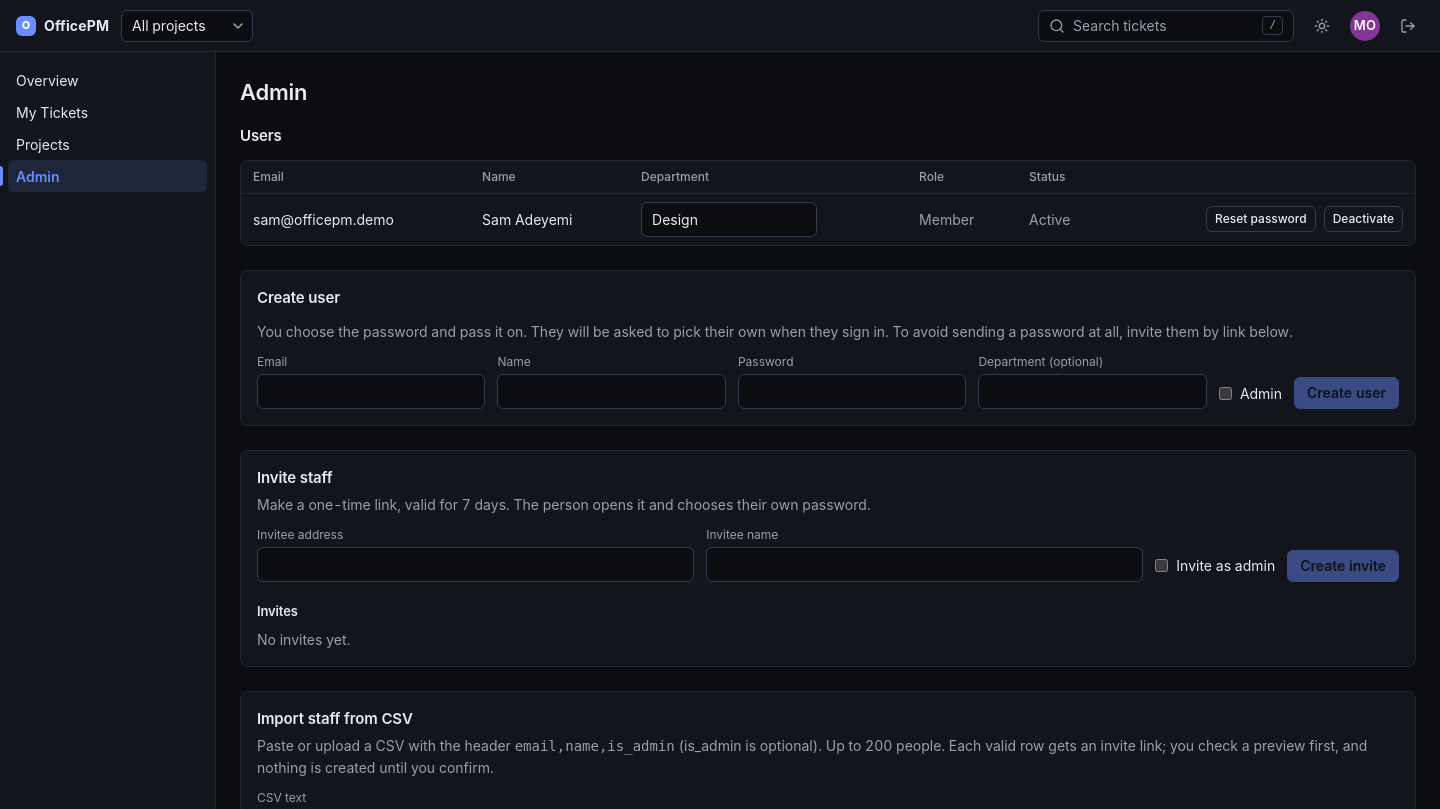
it: admin page › shows the server message and puts the old department back when a change is refused
Step 1. Type " and more" into the field named "Department for Sam Adeyemi" → (729, 219), box [641,202,817,236]
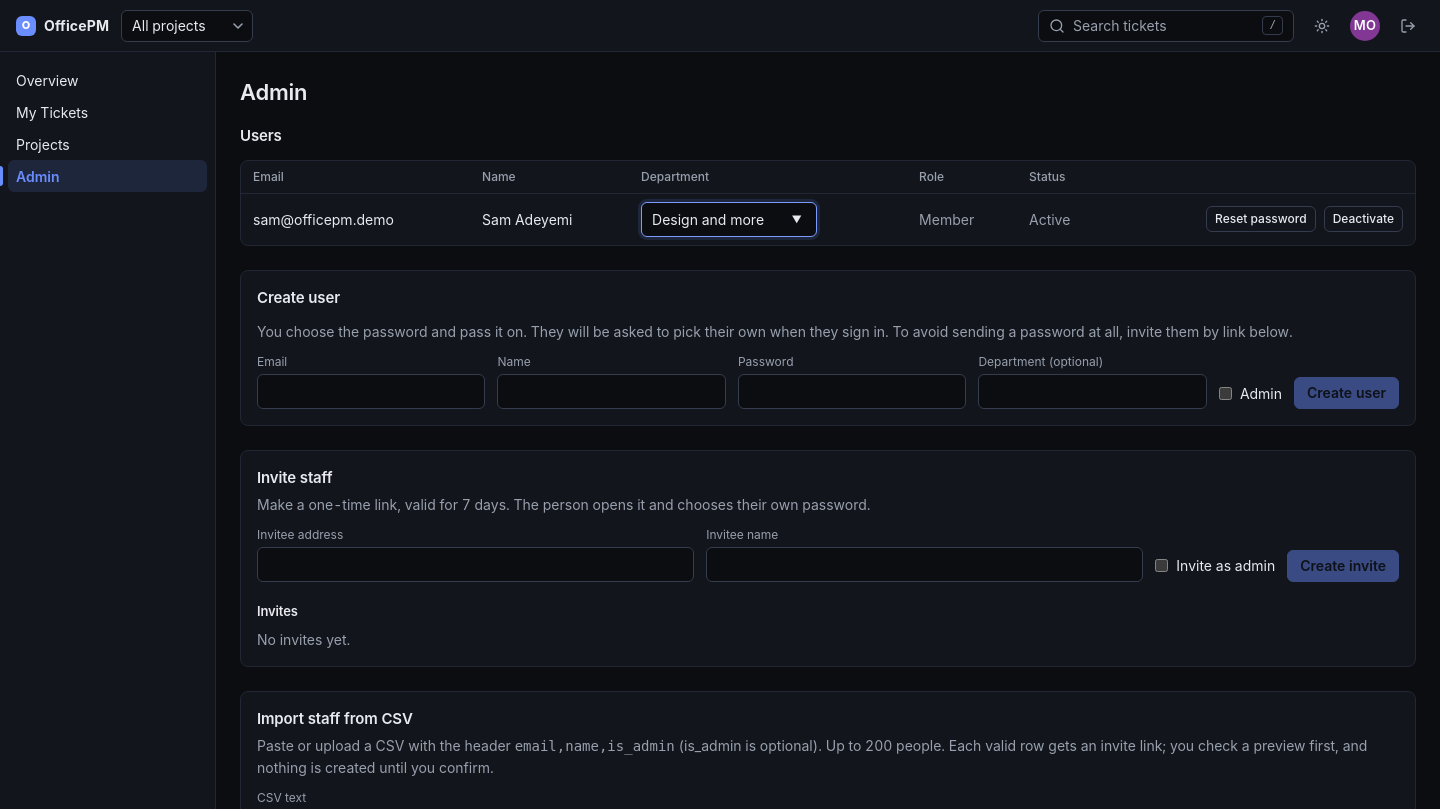
Step 2. Press Tab
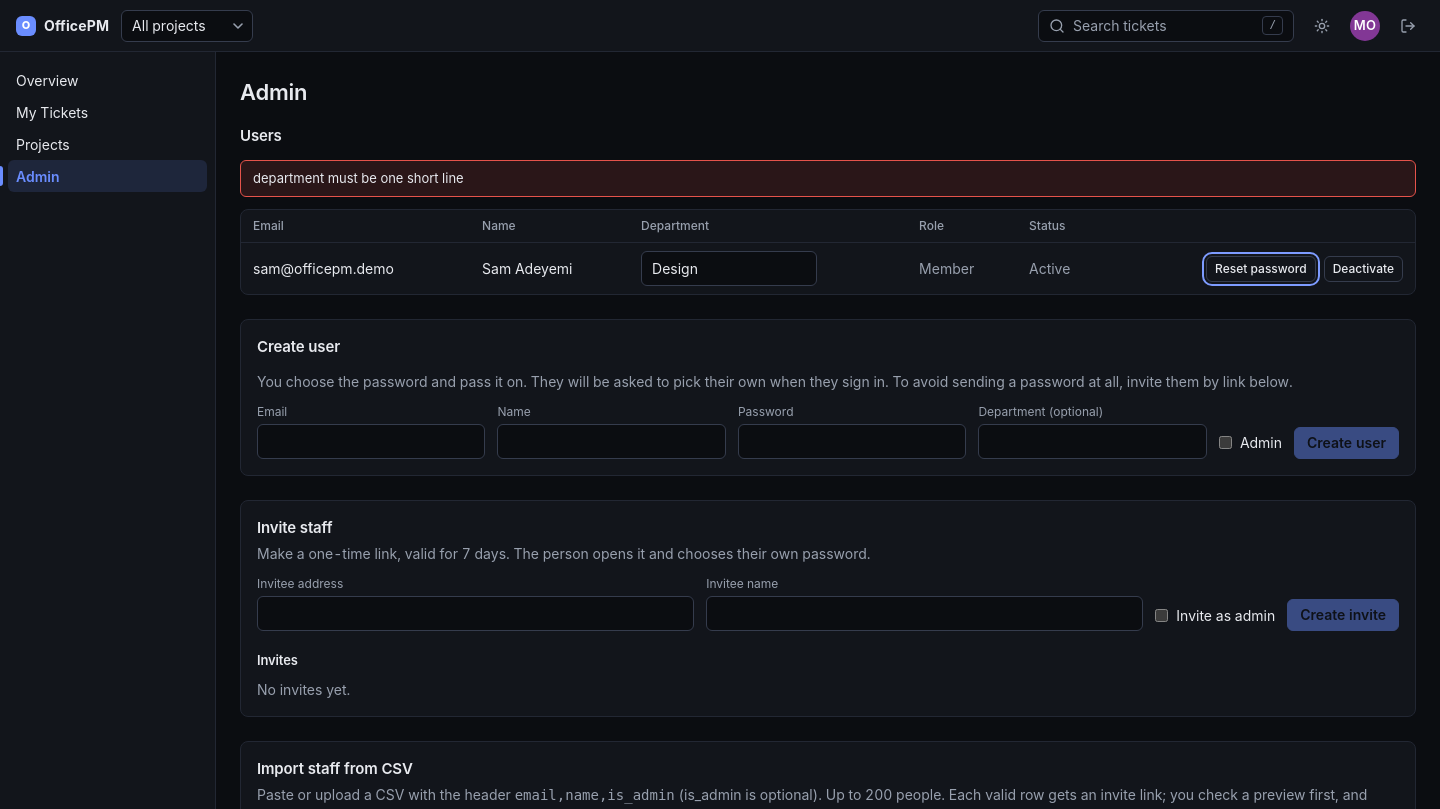
Expected: the message reads "department must be one short line", [253,170,464,186]
Expected: the field named "Department for Sam Adeyemi" holds "Design", [641,251,817,286]
